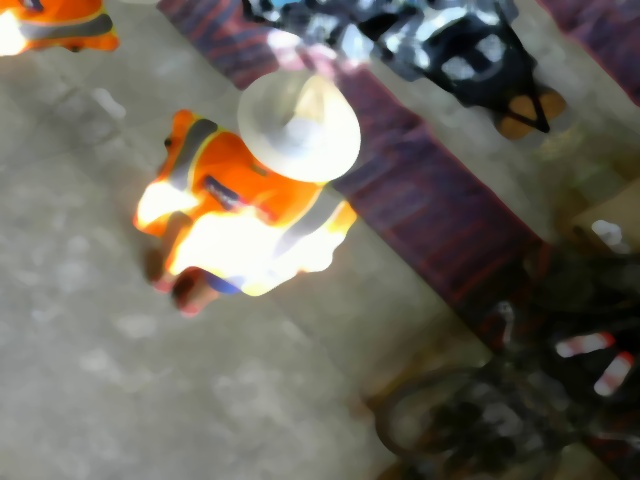two: (272, 107, 336, 159)
